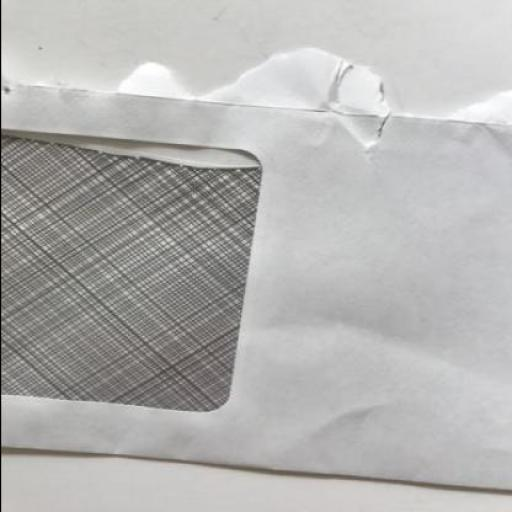paper: (1, 46, 511, 492)
